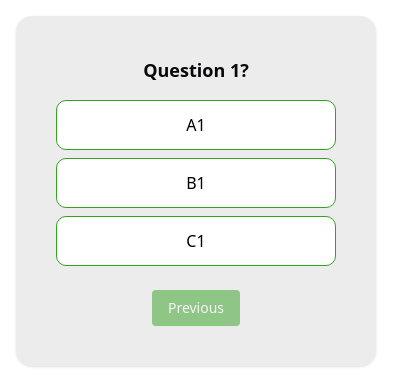
Test: Survey component › clicking previous goes back a question
What coordinates should you click on to do the following:
click the text "B1"
I would click on:
 (196, 183)
Its box is left=56, top=158, right=336, bottom=208.
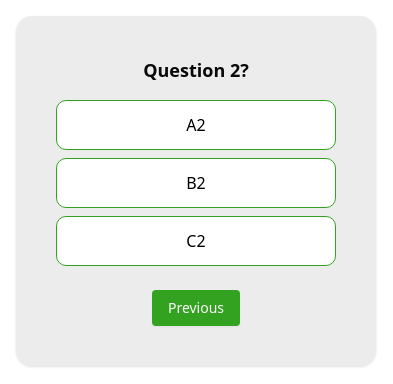
What coordinates should you click on to do the following:
click the button "Previous"
I would click on:
 (196, 308)
Its box is left=152, top=290, right=240, bottom=326.
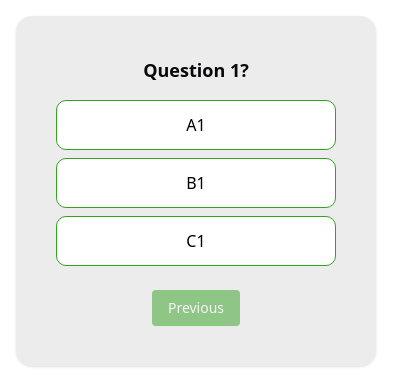
Expected: the text "Question 1?" is shown, left=143, top=58, right=249, bottom=82
Expected: the button "Previous" is disabled, left=152, top=290, right=240, bottom=326
